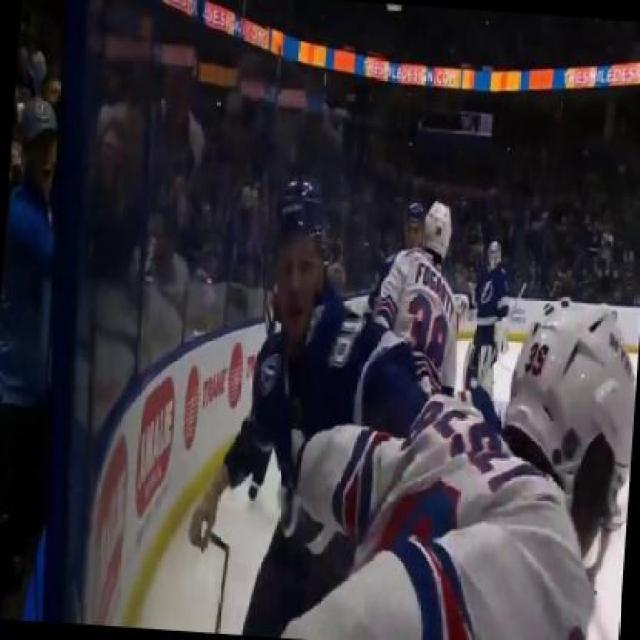fight: (178, 171, 482, 638), (262, 272, 638, 638)
